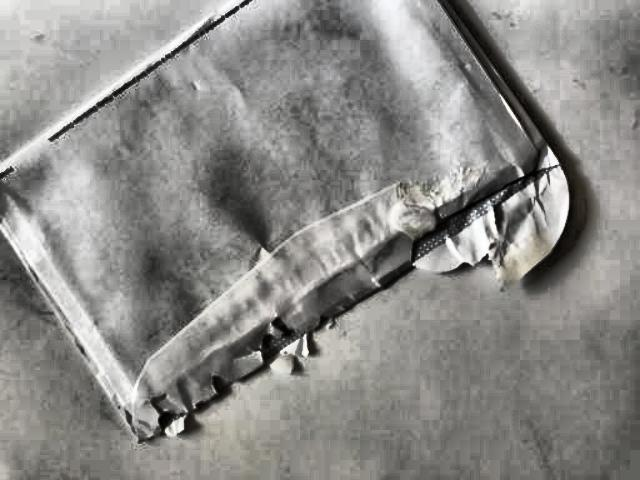Paper: (0, 0, 569, 449)
